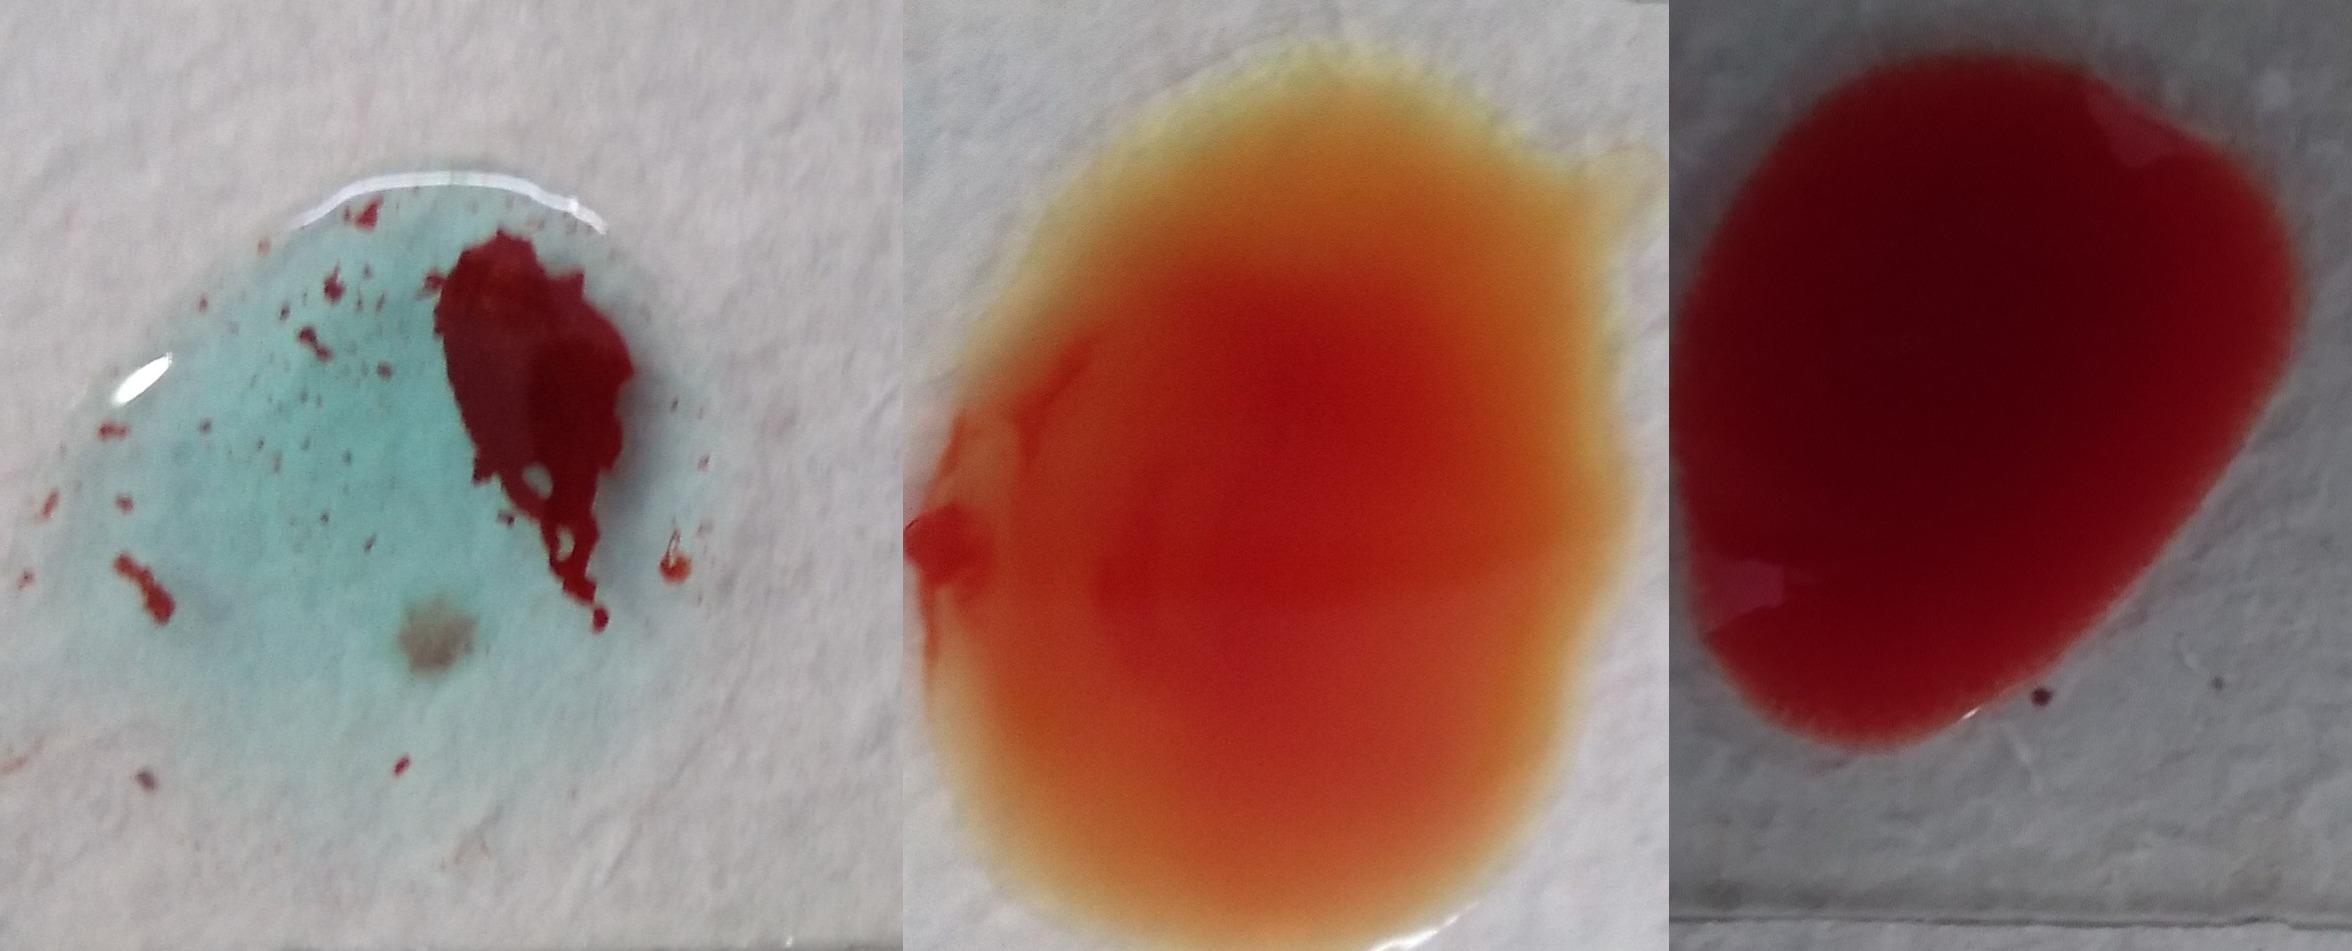A: (100, 153, 694, 781)
